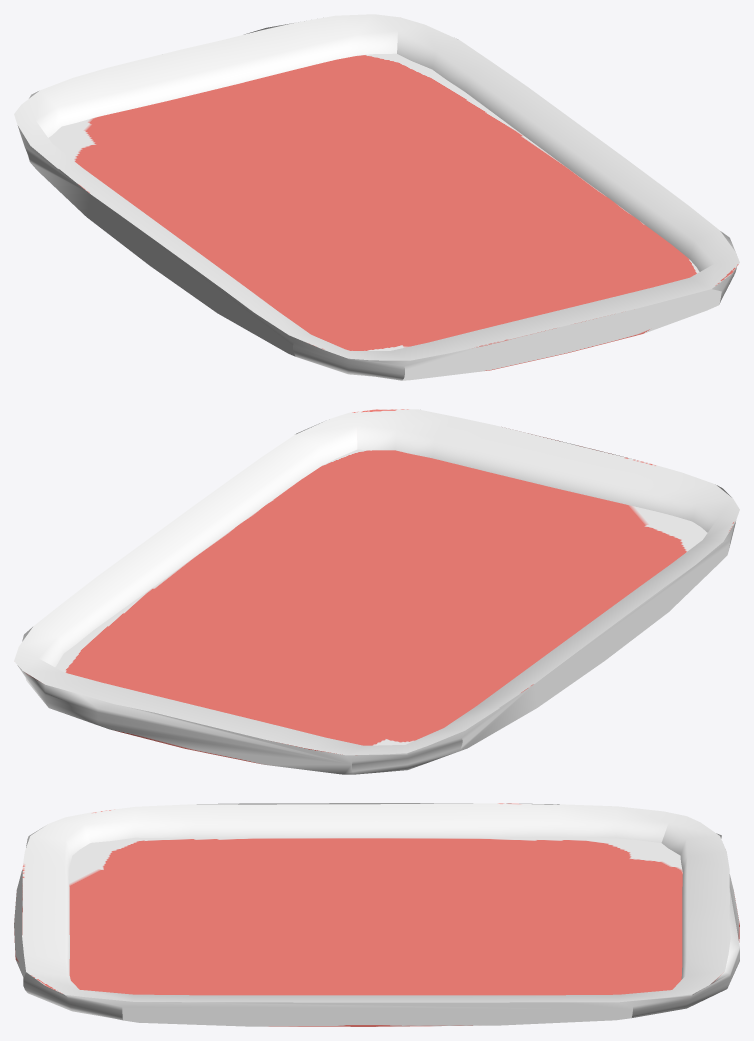
Rendered from Tray Final.fbx.
3 renders of one model, top to bottom at view 1: azimuth 30°, elevation 25°; view 2: azimuth 150°, elevation 25°; view 3: azimuth 270°, elevation 25°, orthographic. The views are drawn at different scales.
Parts seen in each view (by area): view 1: Cube; view 2: Cube; view 3: Cube.
Boxes of the visible parts, <box> form: Cube: <box>14,14,739,380</box>; Cube: <box>14,409,739,774</box>; Cube: <box>14,803,739,1026</box>.
Size of the model in its own units: 373 by 27.1 by 561.
1 material, 1 textured.
